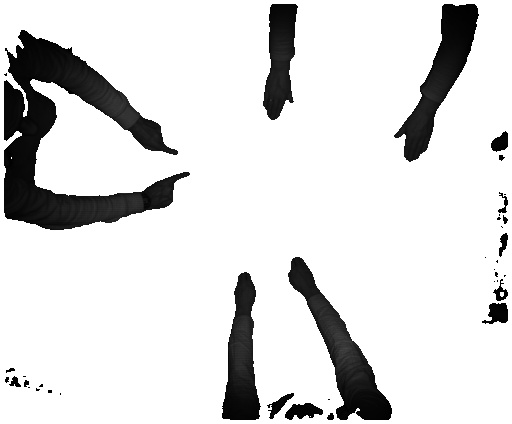hand: (392, 113, 437, 167), (146, 171, 191, 215), (136, 118, 183, 159), (256, 72, 295, 119), (288, 256, 322, 297), (232, 272, 255, 311)
